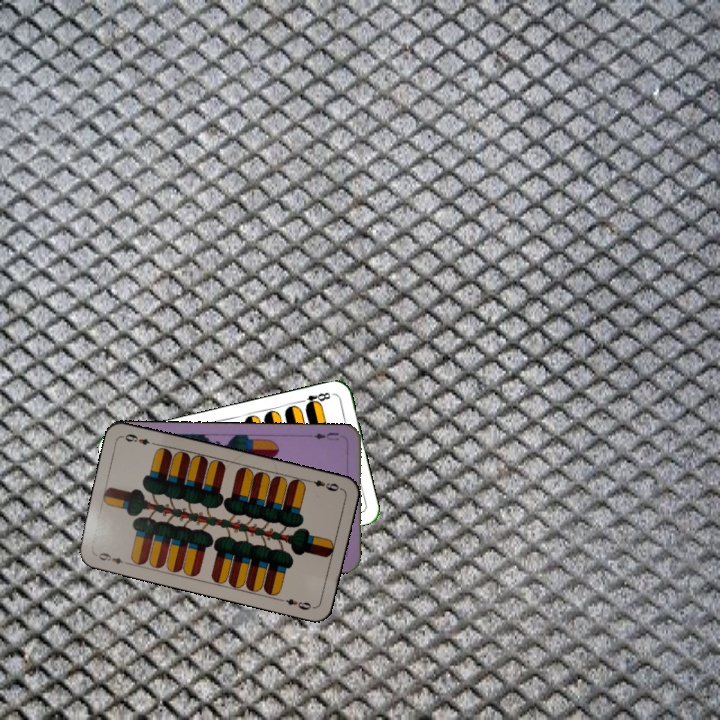E8: (295, 388, 333, 410)
E9: (303, 476, 344, 494), (94, 548, 125, 567)
EU: (310, 429, 341, 443)
